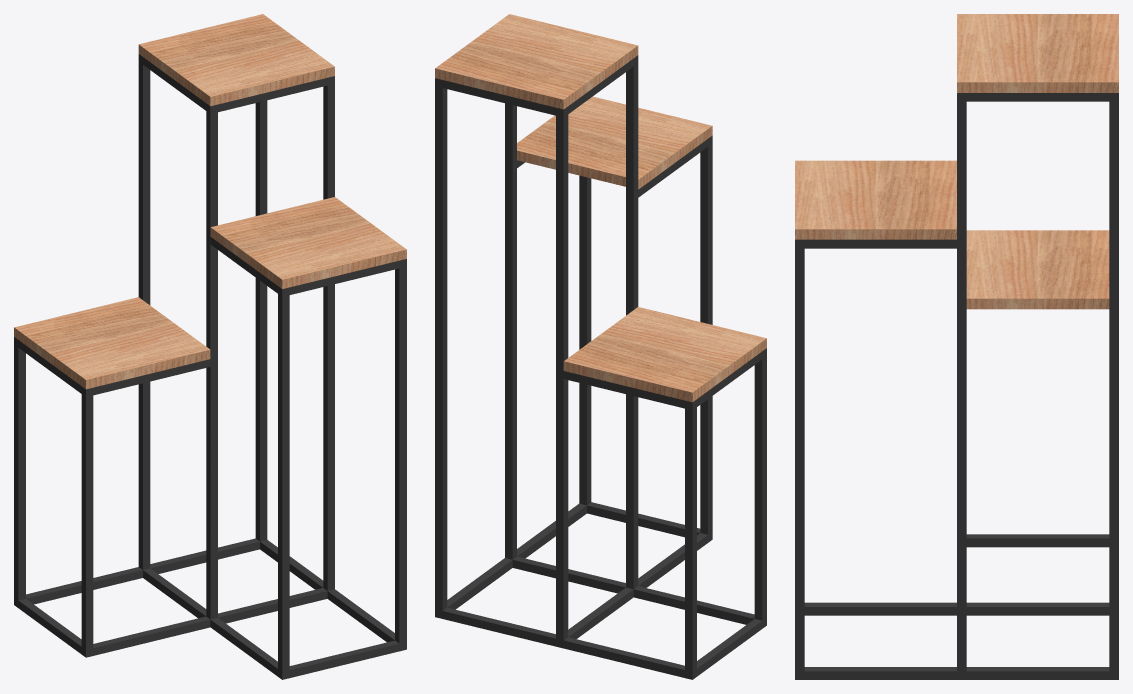
File: kwietnik-narozny.glb
3 views of the same model, side by side, from view 1: azimuth 30°, elevation 25°; view 2: azimuth 150°, elevation 25°; view 3: azimuth 270°, elevation 25° (orthographic). The views are drawn at different scales.
Parts seen in each view (by area): view 1: Solid1 (×6); view 2: Solid1 (×6); view 3: Solid1 (×6).
Part boxes in pixels (left/top/right/bottom): Solid1 (×6): left=14, top=14, right=406, bottom=679; Solid1 (×6): left=435, top=14, right=766, bottom=679; Solid1 (×6): left=795, top=14, right=1118, bottom=679.
Size of the model in its own units: 0.5 by 1.02 by 0.5.
Materials: 2 (1 with a texture image).
